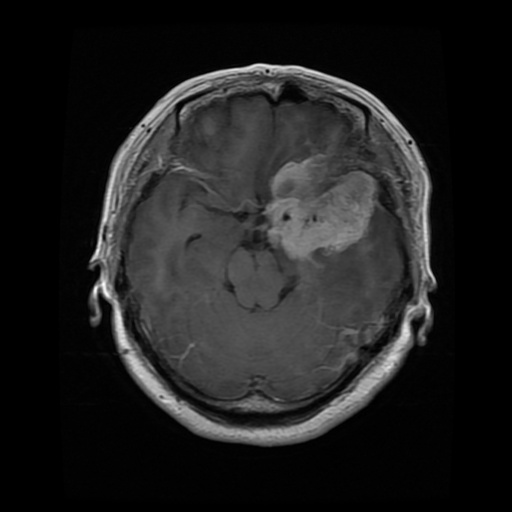meningioma: (264, 153, 377, 257)
